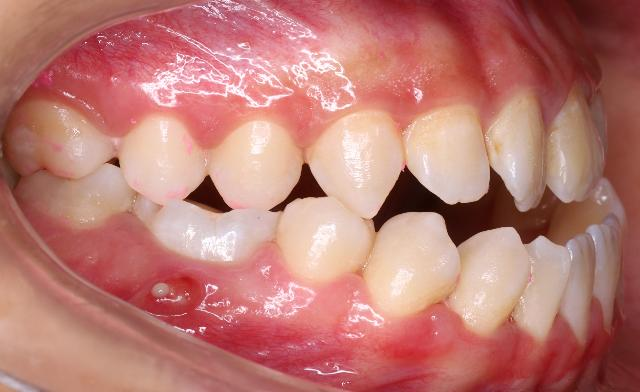canine class III full class: (312, 114, 534, 336)
molar class III full class: (2, 95, 282, 273)
